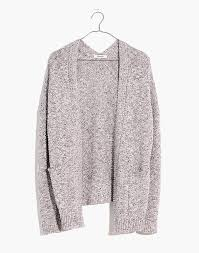S_cardigan sweater: (20, 30, 162, 241)
